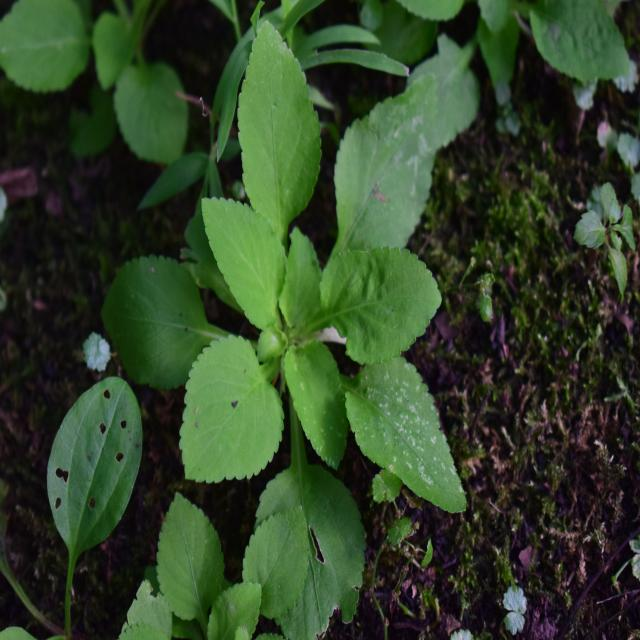Viola: (130, 62, 480, 557)
